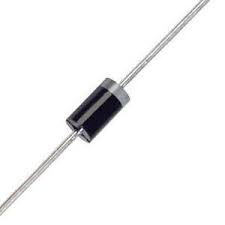diode: (47, 58, 153, 155)
